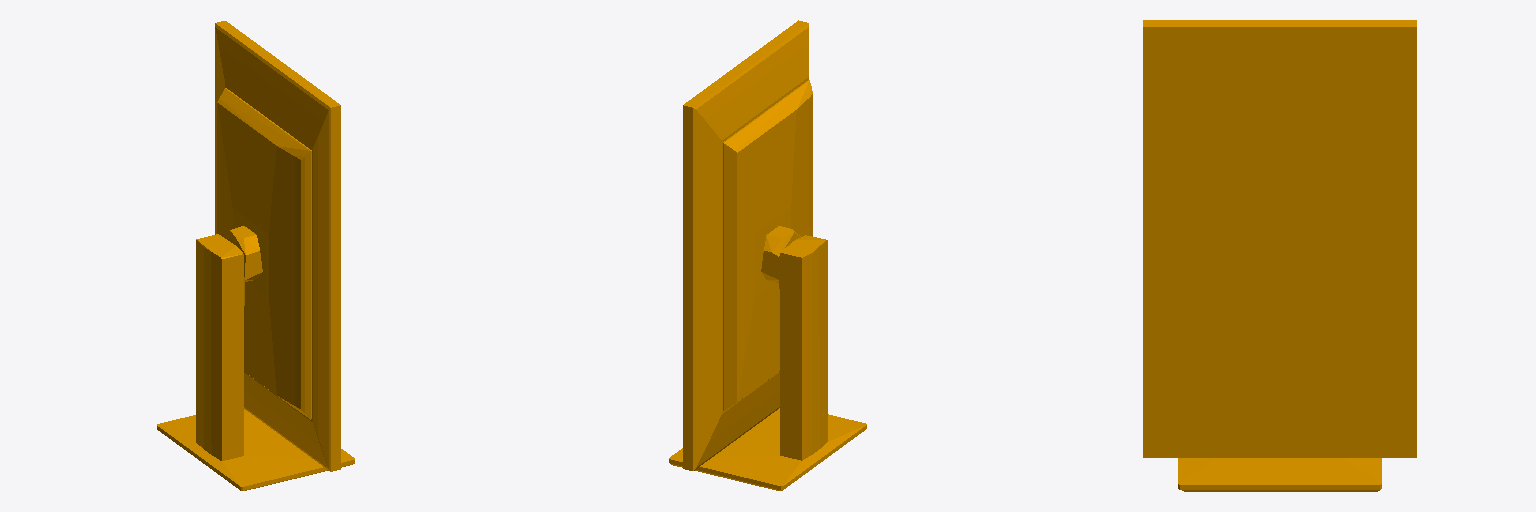
URDF robot description (monitor):
<?xml version="0.0" ?>
<robot name="monitor">
  <link name="monitorLink">
  <contact>
      <lateral_friction value="1"/>
  </contact>
    <inertial>
      <origin rpy="0 0 0" xyz="0 0 0"/>
       <mass value=".0"/>
       <inertia ixx="0" ixy="0" ixz="0" iyy="0" iyz="0" izz="0"/>
    </inertial>
    <visual>
      <origin rpy="0 0 1.5708" xyz="0 0 0.341"/>
      <geometry>
		<mesh filename="package://safemotions/description/meshes/obstacles/visual/monitor_pivot.obj" scale="1 1 1"/>
      </geometry>
    </visual>
    <collision>
      <origin rpy="0 0 1.5708" xyz="0 0 0.341"/>
      <geometry>
		<mesh filename="package://safemotions/description/meshes/obstacles/collision/monitor_pivot.obj" scale="1 1 1"/>
      </geometry>
    </collision>
  </link>
</robot>

--- What the picture shows (computed from the rendered views, not written in the file) ---
Views: 3 orthographic renders of the robot side by side, from view 1: azimuth 30°, elevation 25°; view 2: azimuth 150°, elevation 25°; view 3: azimuth 270°, elevation 25°.
Robot: monitor — 1 links, 0 joints (none); root link monitorLink; default pose: all joints at 0.
Visible links, largest first — view 1: monitorLink; view 2: monitorLink; view 3: monitorLink.
Link boxes in pixels (bbox=[...]): monitorLink: bbox=[157, 21, 354, 490]; monitorLink: bbox=[669, 20, 866, 490]; monitorLink: bbox=[1143, 20, 1416, 491].
Bounding box of the posed robot: 0.2182 × 0.3819 × 0.6896 m (x, y, z).
Meshes: 1 distinct files referenced, 1 mesh visuals loaded (1 OBJ).